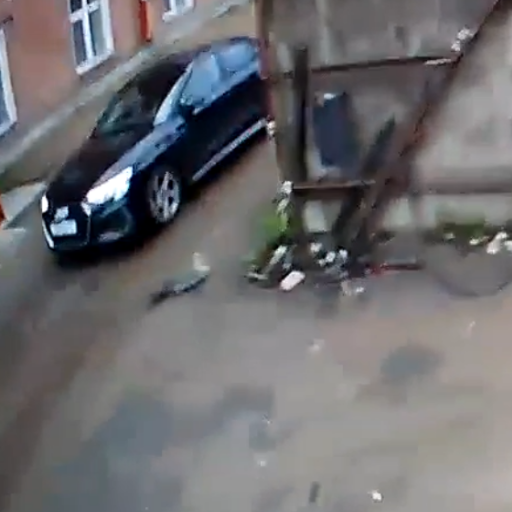Car: (37, 38, 292, 255)
